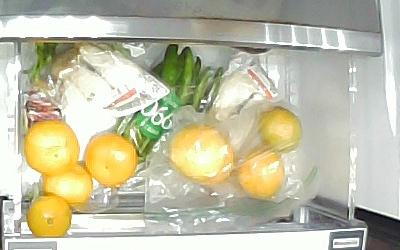tangerine: (25, 121, 79, 176), (85, 132, 136, 188), (41, 163, 91, 209), (26, 197, 73, 238)
tangerine_vinyl: (169, 123, 233, 187), (238, 149, 287, 201), (257, 106, 304, 151), (199, 144, 234, 187)
